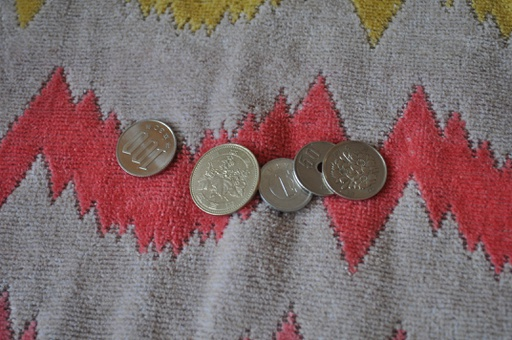100yen: (323, 142, 386, 200), (117, 121, 176, 177)
1yen: (257, 158, 314, 211)
500yen: (190, 144, 259, 215)
50yen: (293, 141, 339, 196)
